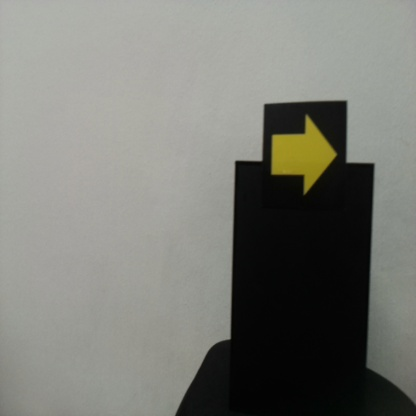id_3: (264, 104, 347, 207)
